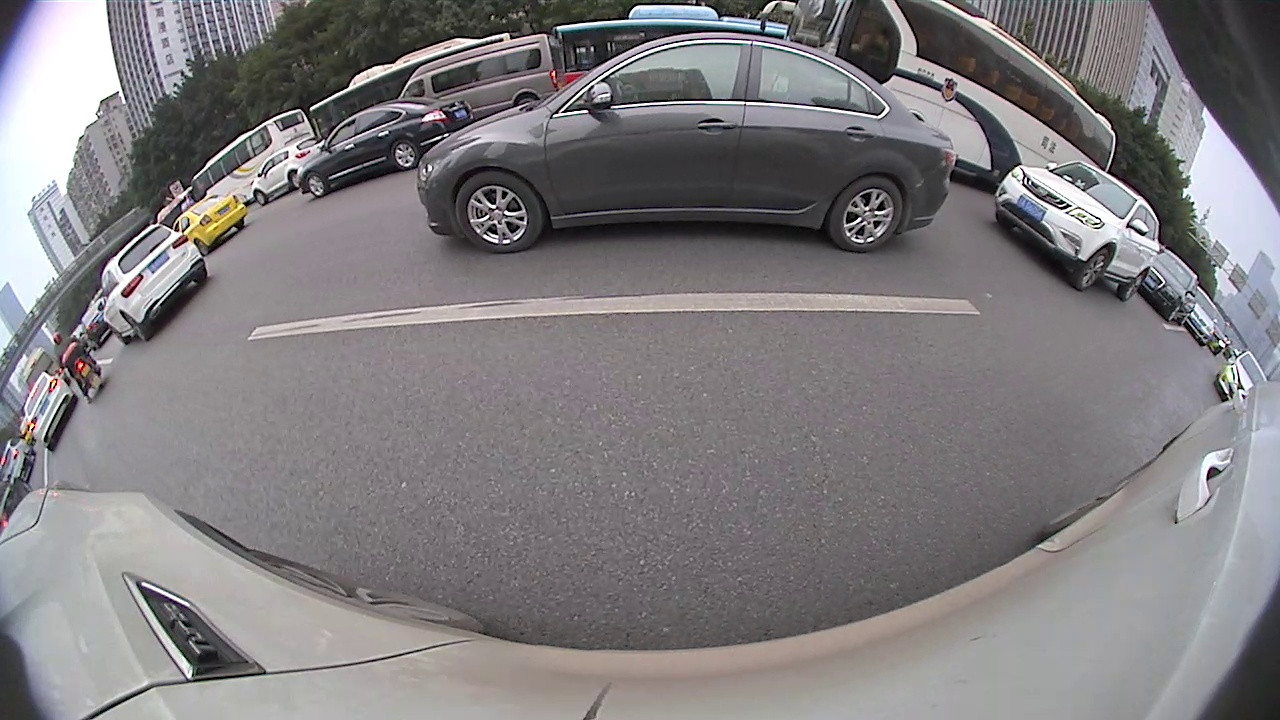bus: (760, 3, 1117, 188), (304, 29, 509, 140), (551, 1, 789, 82), (188, 108, 319, 195)
car: (417, 25, 951, 257), (990, 159, 1162, 302), (297, 94, 469, 199), (98, 221, 205, 348), (395, 35, 558, 115), (253, 131, 325, 208), (169, 189, 248, 255), (1130, 248, 1198, 322), (22, 369, 78, 453), (1215, 351, 1267, 405), (1187, 287, 1218, 352), (1, 436, 38, 479)
front: (455, 172, 539, 249), (1073, 249, 1111, 289), (305, 176, 328, 197), (106, 323, 127, 344), (1164, 301, 1184, 319), (253, 188, 265, 204)
rear: (825, 180, 905, 253), (1116, 269, 1148, 300), (122, 312, 148, 339), (392, 142, 418, 169), (195, 238, 209, 257), (289, 173, 302, 188)
rider: (48, 335, 105, 400)
